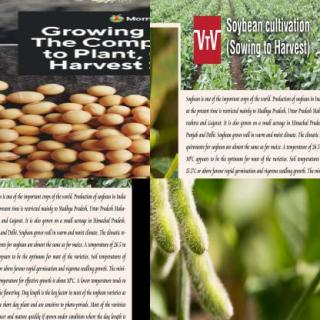soya: (160, 178, 208, 256), (184, 256, 234, 320), (150, 179, 180, 253), (150, 94, 159, 151)
